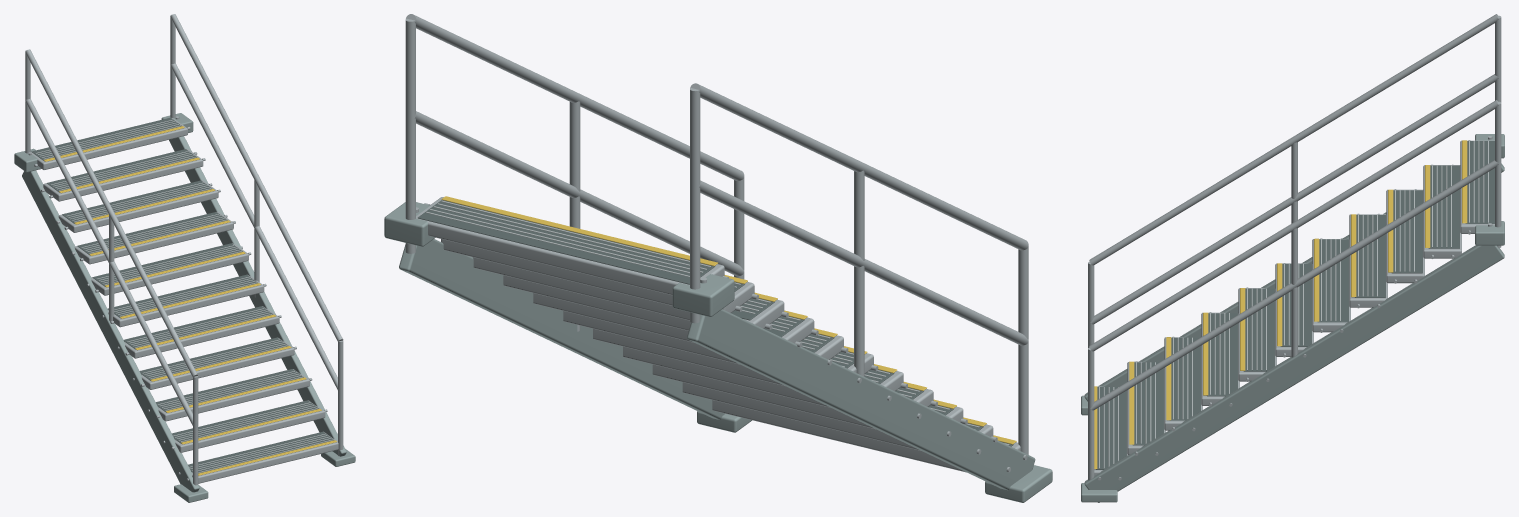
The model's file is deck_stair_wide_220cm.glb.
3 renders of one model, left to right at view 1: azimuth 30°, elevation 25°; view 2: azimuth 150°, elevation 25°; view 3: azimuth 270°, elevation 25°, orthographic. The views are drawn at different scales.
Parts seen in each view (by area): view 1: deck_stair_wide_220cm Fixed_Galvanized, deck_stair_wide_220cm Fixed_Nonslip, deck_stair_wide_220cm Warm white painted steel, deck_stair_wide_220cm Fixed_TreadGrip, deck_stair_wide_220cm Fixed_LoadMark; view 2: deck_stair_wide_220cm Fixed_Galvanized, deck_stair_wide_220cm Warm white painted steel, deck_stair_wide_220cm Fixed_Nonslip, deck_stair_wide_220cm Fixed_TreadGrip, deck_stair_wide_220cm Fixed_LoadMark; view 3: deck_stair_wide_220cm Fixed_Galvanized, deck_stair_wide_220cm Fixed_Nonslip, deck_stair_wide_220cm Warm white painted steel, deck_stair_wide_220cm Fixed_TreadGrip, deck_stair_wide_220cm Fixed_LoadMark.
Part boxes in pixels (x1,y1,x2,y2): deck_stair_wide_220cm Fixed_Galvanized: [25, 14, 343, 485]; deck_stair_wide_220cm Fixed_Nonslip: [31, 117, 334, 473]; deck_stair_wide_220cm Warm white painted steel: [14, 113, 355, 502]; deck_stair_wide_220cm Fixed_TreadGrip: [35, 119, 333, 472]; deck_stair_wide_220cm Fixed_LoadMark: [43, 126, 336, 475]; deck_stair_wide_220cm Fixed_Galvanized: [405, 14, 1028, 472]; deck_stair_wide_220cm Warm white painted steel: [384, 202, 1052, 502]; deck_stair_wide_220cm Fixed_Nonslip: [418, 200, 1013, 446]; deck_stair_wide_220cm Fixed_TreadGrip: [426, 200, 1009, 445]; deck_stair_wide_220cm Fixed_LoadMark: [441, 196, 1016, 444]; deck_stair_wide_220cm Fixed_Galvanized: [1088, 14, 1501, 480]; deck_stair_wide_220cm Fixed_Nonslip: [1096, 141, 1494, 469]; deck_stair_wide_220cm Warm white painted steel: [1081, 134, 1504, 502]; deck_stair_wide_220cm Fixed_TreadGrip: [1099, 141, 1488, 468]; deck_stair_wide_220cm Fixed_LoadMark: [1094, 140, 1467, 469].
Bounding box in the file's own units: 1.73 × 3.26 × 3.12.
